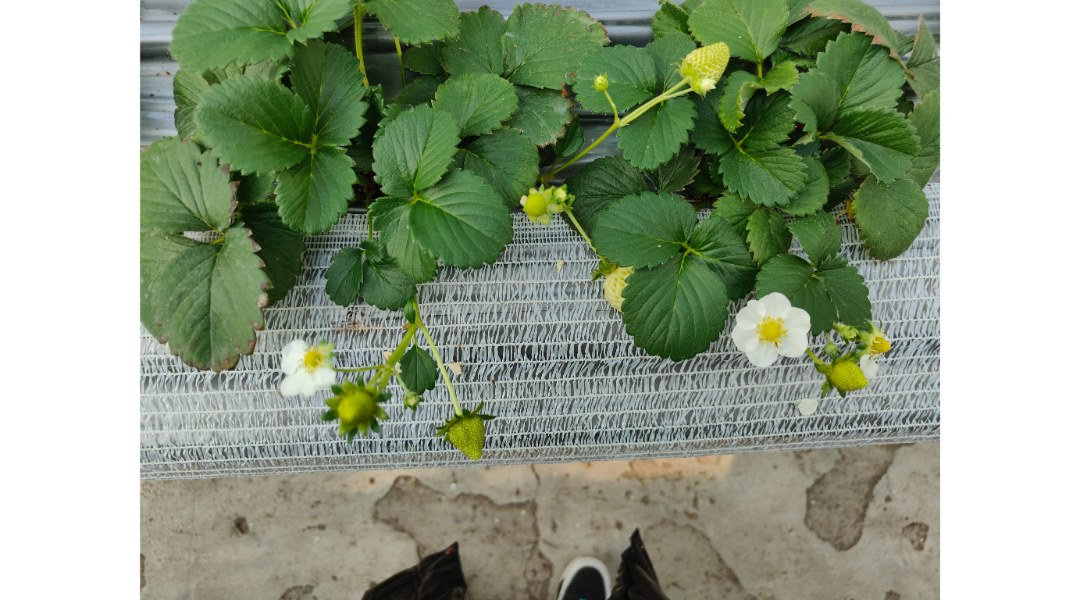berry: (669, 33, 741, 99), (326, 376, 391, 446), (437, 400, 492, 465), (831, 351, 861, 396)
flower: (729, 291, 813, 378), (270, 333, 339, 409)
strain: (423, 331, 459, 398), (557, 131, 606, 174)
